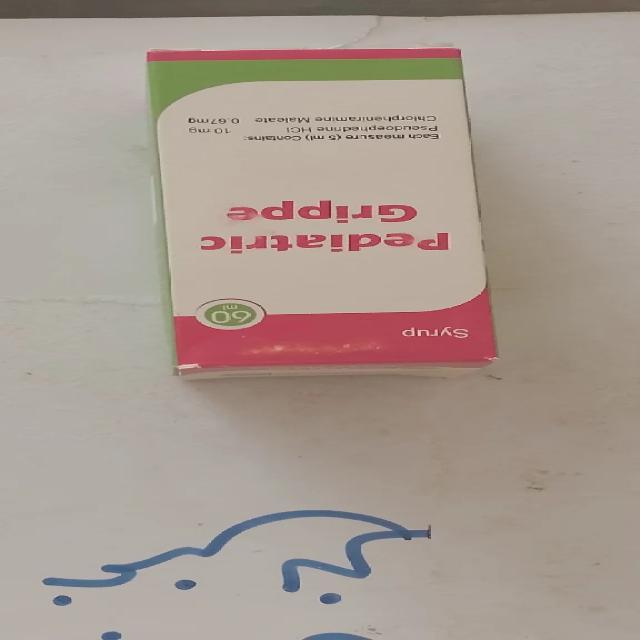drug-name: (191, 197, 452, 255)
